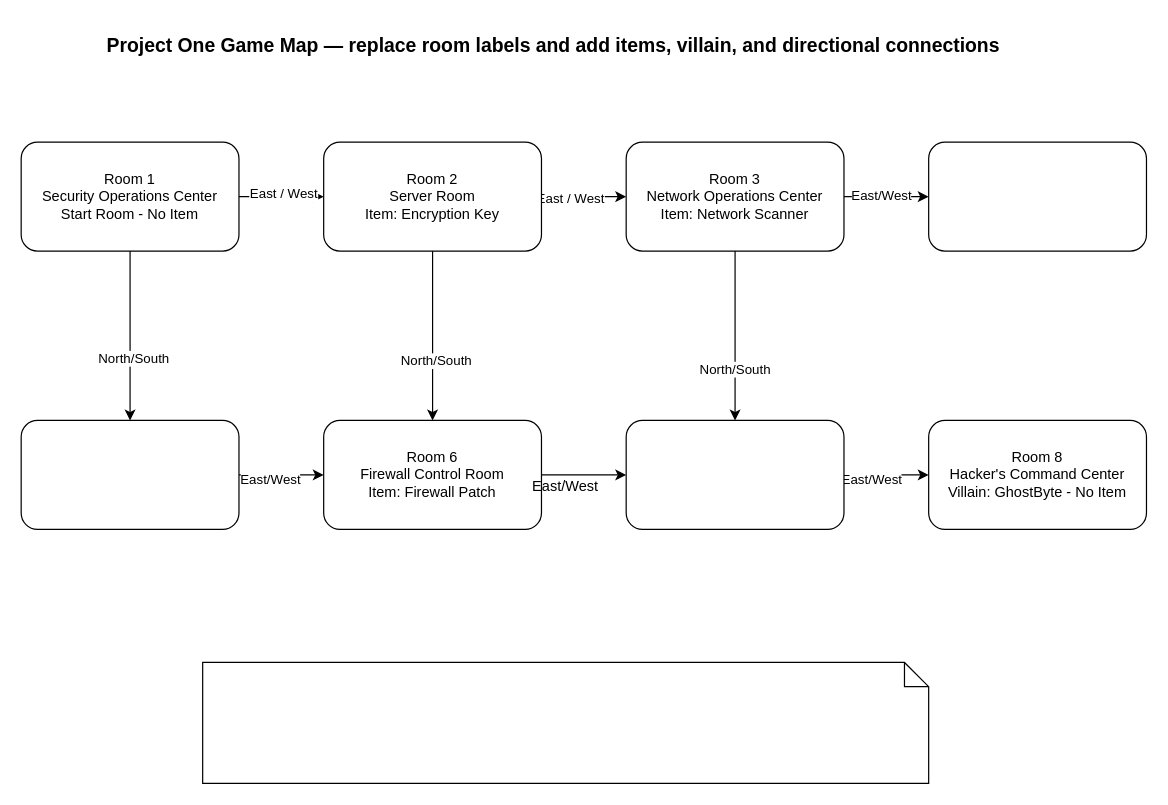
This 1168x805 diagram has some shape labels left out. Here are the shapes that lost their labels. From the top down, the box of each, then its label:
(927, 141, 1146, 251): Room 4 Data Center Item: Security Token
(20, 419, 239, 529): Room 5 IT Help Desk Item: Antivirus Software
(625, 419, 844, 529): Room 7 Backup Server Room Item: Backup Drive
